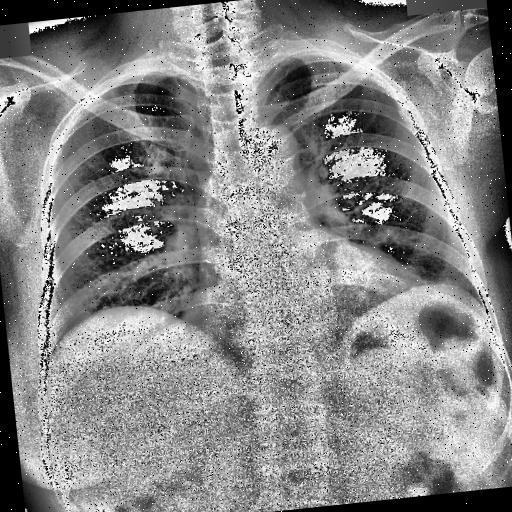3- Cardiomegaly: (165, 239, 429, 348), (172, 254, 436, 344), (180, 262, 440, 350)
